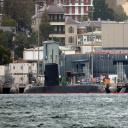submarine: (23, 63, 128, 95)
